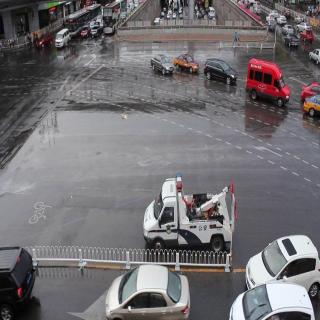Car: (144, 176, 235, 261), (99, 255, 194, 320), (243, 244, 320, 292), (228, 287, 316, 320), (247, 52, 287, 120), (210, 51, 234, 92), (149, 53, 174, 86), (174, 52, 200, 78), (54, 28, 72, 50), (38, 32, 51, 48)
